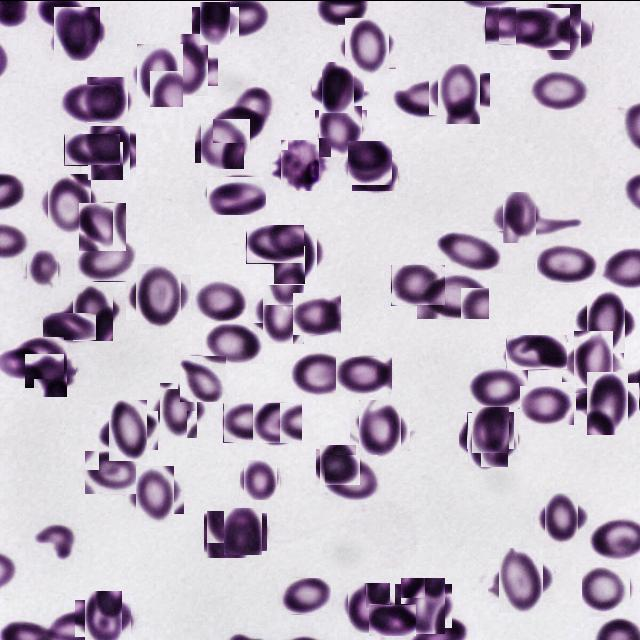red blood cell: (416, 274, 489, 319), (130, 268, 186, 324), (494, 552, 549, 608), (133, 48, 188, 102), (434, 230, 503, 272), (43, 177, 96, 229), (161, 37, 213, 90), (581, 376, 634, 428), (75, 236, 136, 281), (269, 228, 321, 280), (290, 352, 352, 395), (434, 67, 485, 119), (580, 295, 631, 346), (342, 20, 392, 72), (354, 404, 406, 454), (536, 243, 600, 283), (468, 366, 528, 408), (203, 322, 264, 363), (529, 69, 590, 110), (568, 336, 618, 386), (102, 404, 152, 454), (258, 288, 308, 338), (198, 115, 248, 165), (398, 580, 448, 630), (52, 8, 102, 58), (325, 454, 378, 501), (84, 450, 140, 494), (464, 416, 513, 466), (582, 566, 630, 616), (68, 288, 118, 336), (317, 106, 365, 154), (131, 470, 179, 518), (78, 202, 126, 250), (85, 128, 133, 176), (516, 7, 570, 49), (246, 224, 304, 263), (207, 176, 266, 214), (396, 80, 458, 116), (391, 264, 445, 305), (195, 280, 248, 321), (346, 583, 392, 630), (180, 355, 227, 401), (540, 8, 587, 54), (506, 334, 567, 369), (520, 385, 574, 424), (14, 336, 64, 378), (337, 356, 392, 394), (223, 402, 275, 442), (156, 387, 202, 432), (80, 595, 126, 640), (30, 521, 76, 566), (252, 402, 302, 443), (205, 511, 250, 556), (293, 292, 341, 334), (278, 577, 331, 614), (62, 84, 115, 121), (86, 77, 130, 121), (348, 140, 392, 184), (540, 496, 583, 540), (498, 195, 542, 238), (29, 348, 72, 392), (469, 408, 512, 451), (231, 86, 271, 132), (64, 133, 120, 165), (317, 66, 359, 108), (213, 106, 262, 142), (222, 510, 264, 552), (485, 6, 529, 44), (318, 446, 358, 486), (352, 156, 398, 190), (42, 312, 96, 340), (369, 602, 416, 634), (197, 2, 234, 40), (242, 460, 278, 498), (24, 250, 60, 285)
trophozoite: (277, 142, 322, 187)
